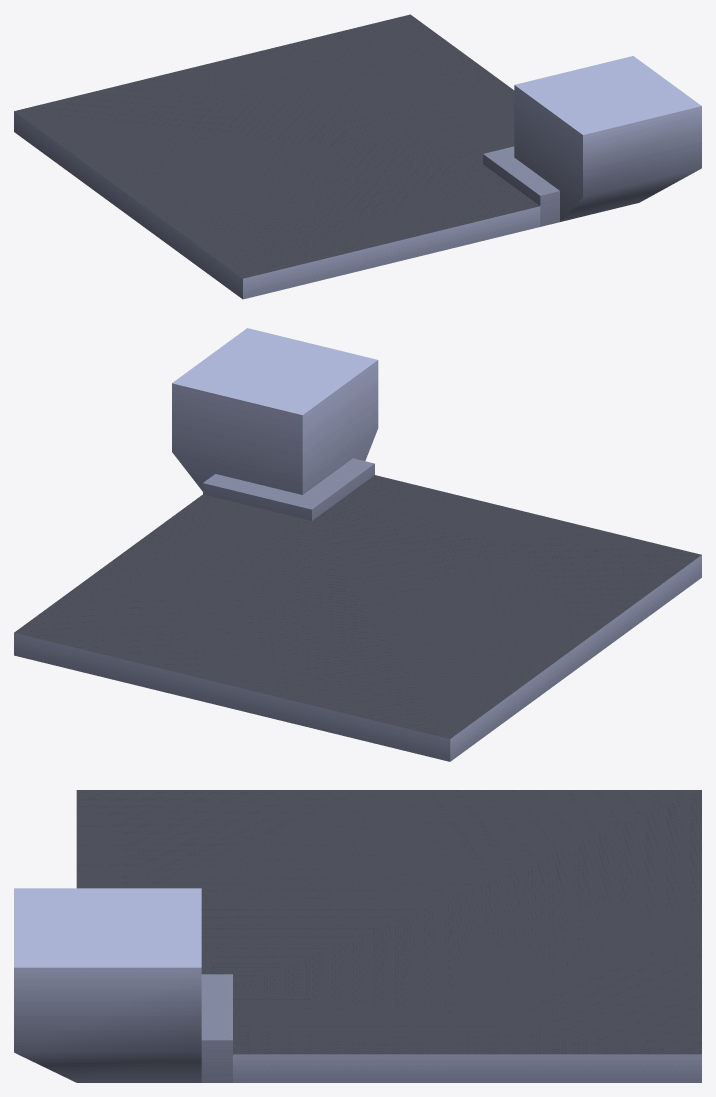
Rendered from roof-flat-corner-inner.glb.
3 views of the same model, one above another, from view 1: azimuth 30°, elevation 25°; view 2: azimuth 150°, elevation 25°; view 3: azimuth 270°, elevation 25° (orthographic). The views are drawn at different scales.
Visible parts, largest first — view 1: roof-flat-corner-inner; view 2: roof-flat-corner-inner; view 3: roof-flat-corner-inner.
Part boxes in pixels (bbox=[...]): roof-flat-corner-inner: bbox=[14, 14, 701, 299]; roof-flat-corner-inner: bbox=[14, 328, 701, 761]; roof-flat-corner-inner: bbox=[14, 790, 701, 1082].
Size of the model in its own units: 2.2 by 0.5 by 2.2.
Materials: 1 (1 with a texture image).
